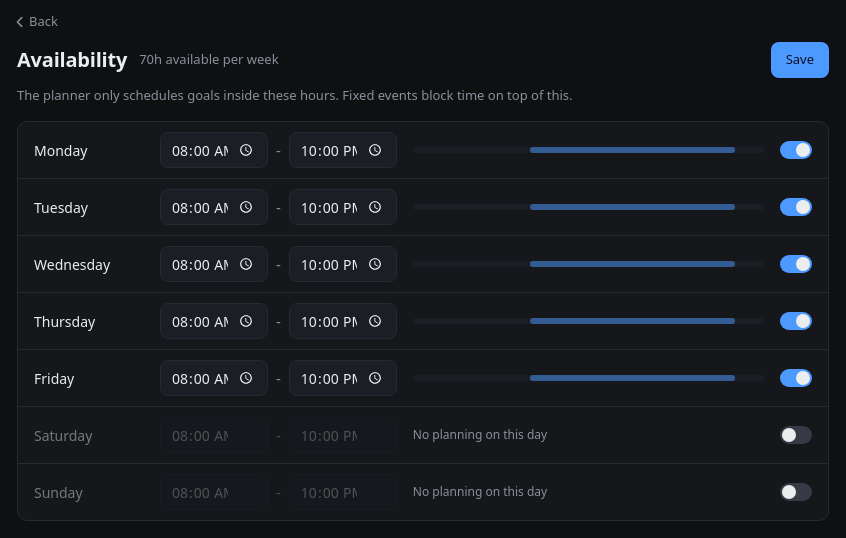
Test: AvailabilityPage per-day mode › counts only open days in the weekly total
Expected: the button "Save" is shown, [771,42,829,78]
Expected: the text "70h available per week" is shown, [139,50,279,69]
Step 1. Click the switch named "Plan on Friday" → (796, 378), box [780,369,812,387]
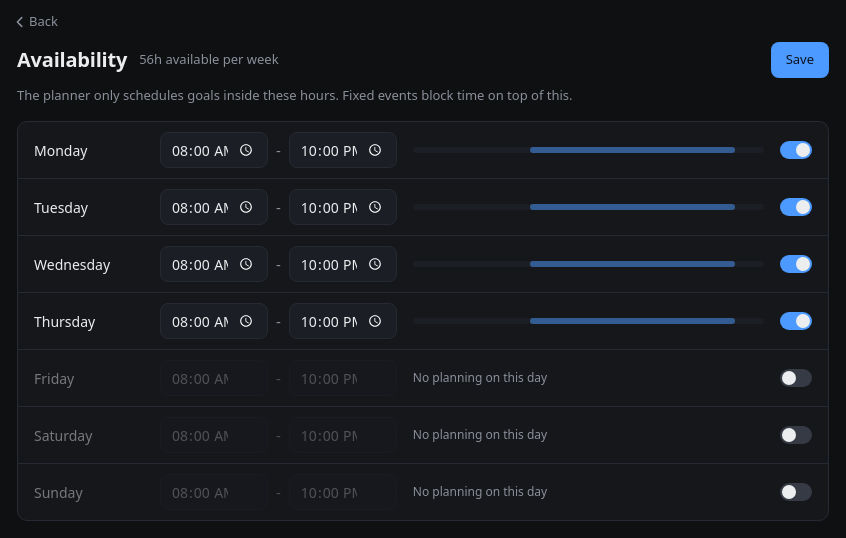
Result: the text "56h available per week" is shown at [139,50,279,69]
